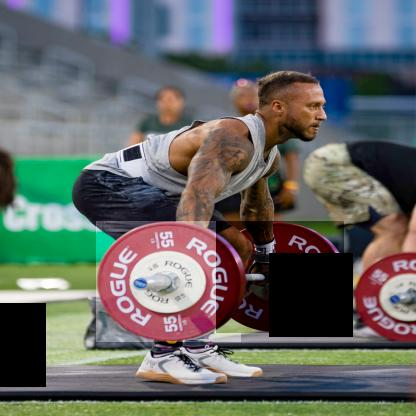barbell: (97, 222, 242, 343), (217, 222, 345, 334)
